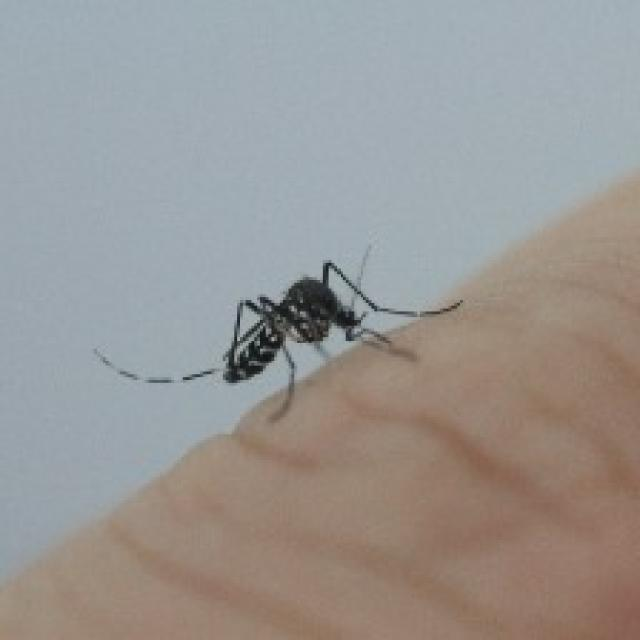aedes: (88, 240, 463, 423)
